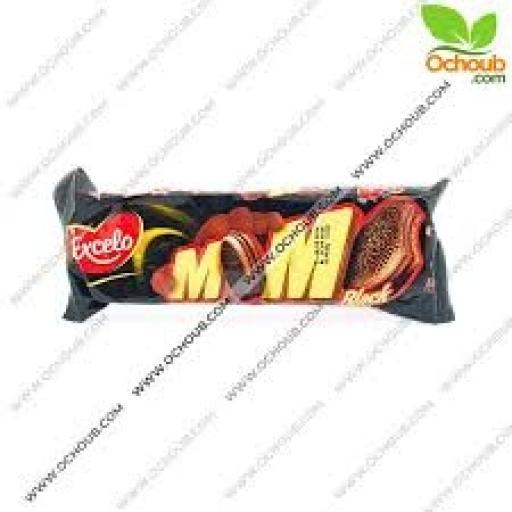MOMO: (20, 132, 482, 349)
